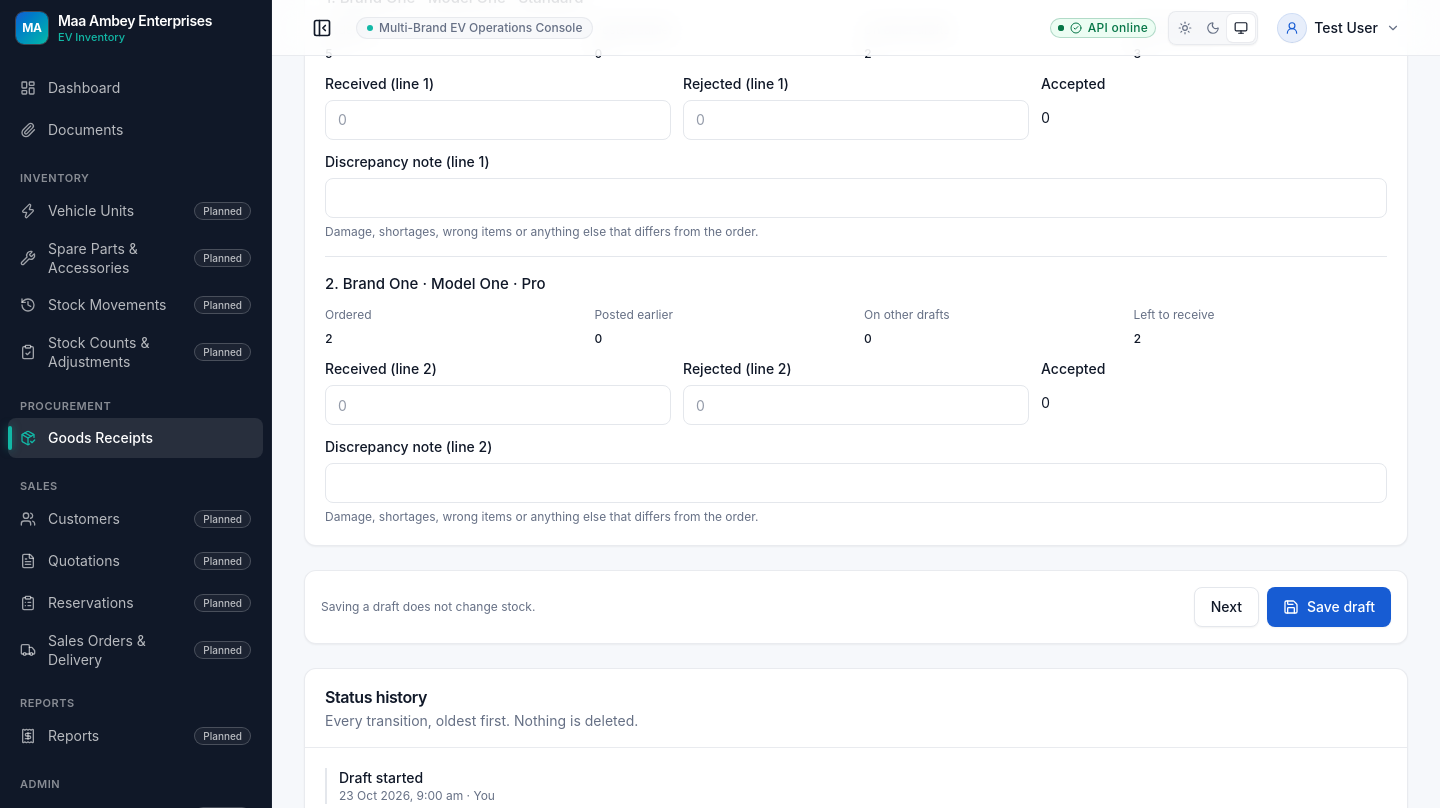
Test: goods receipt draft editor › offers a reload after a version conflict and explains network failures
This screenshot has width=1440, height=808.
(page scrolled)
Step 1. Type "1" into the field labelled "Received (line 2)" → (498, 405), box [325, 385, 671, 425]
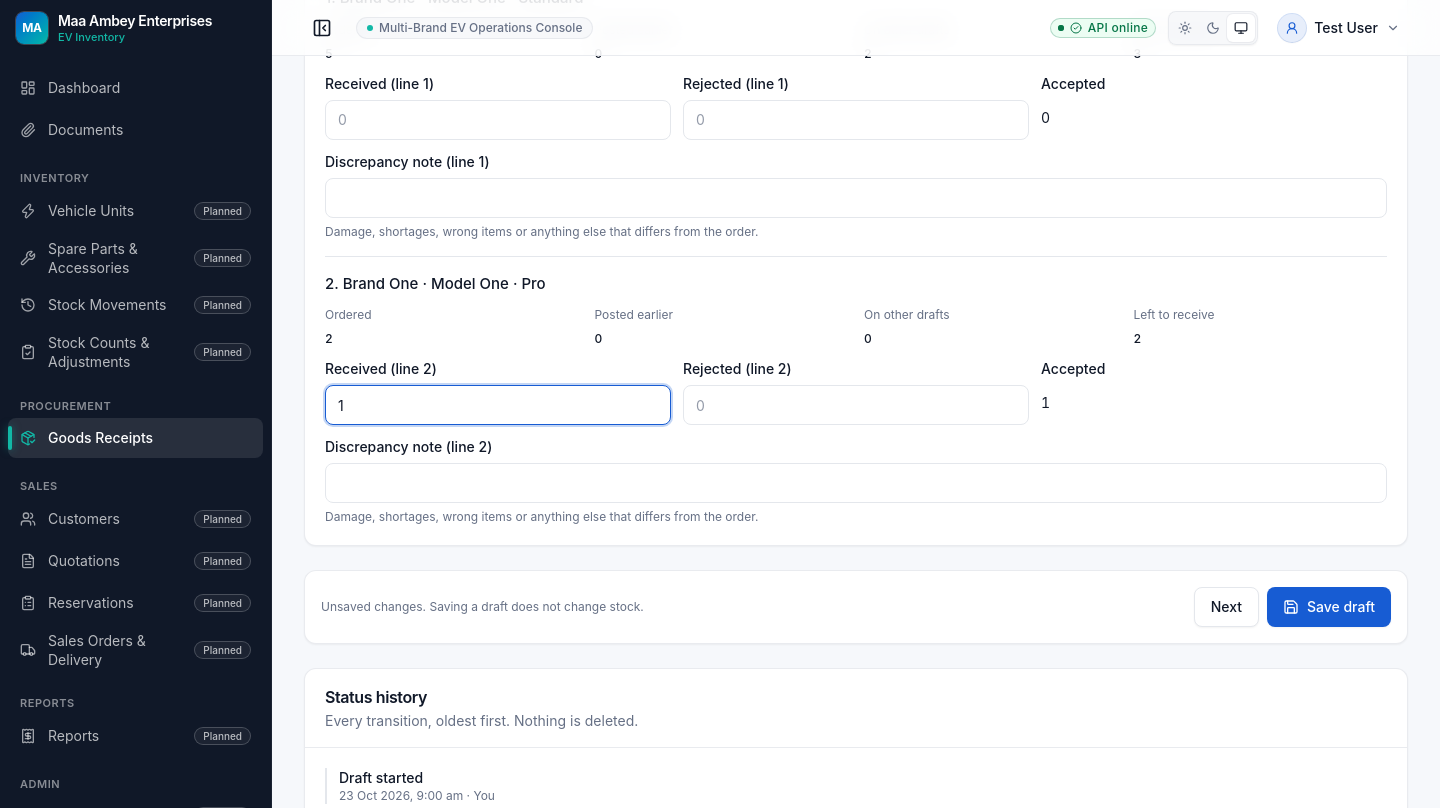
Step 2. Click the button "Save draft" → (1329, 607), box [1267, 587, 1391, 627]
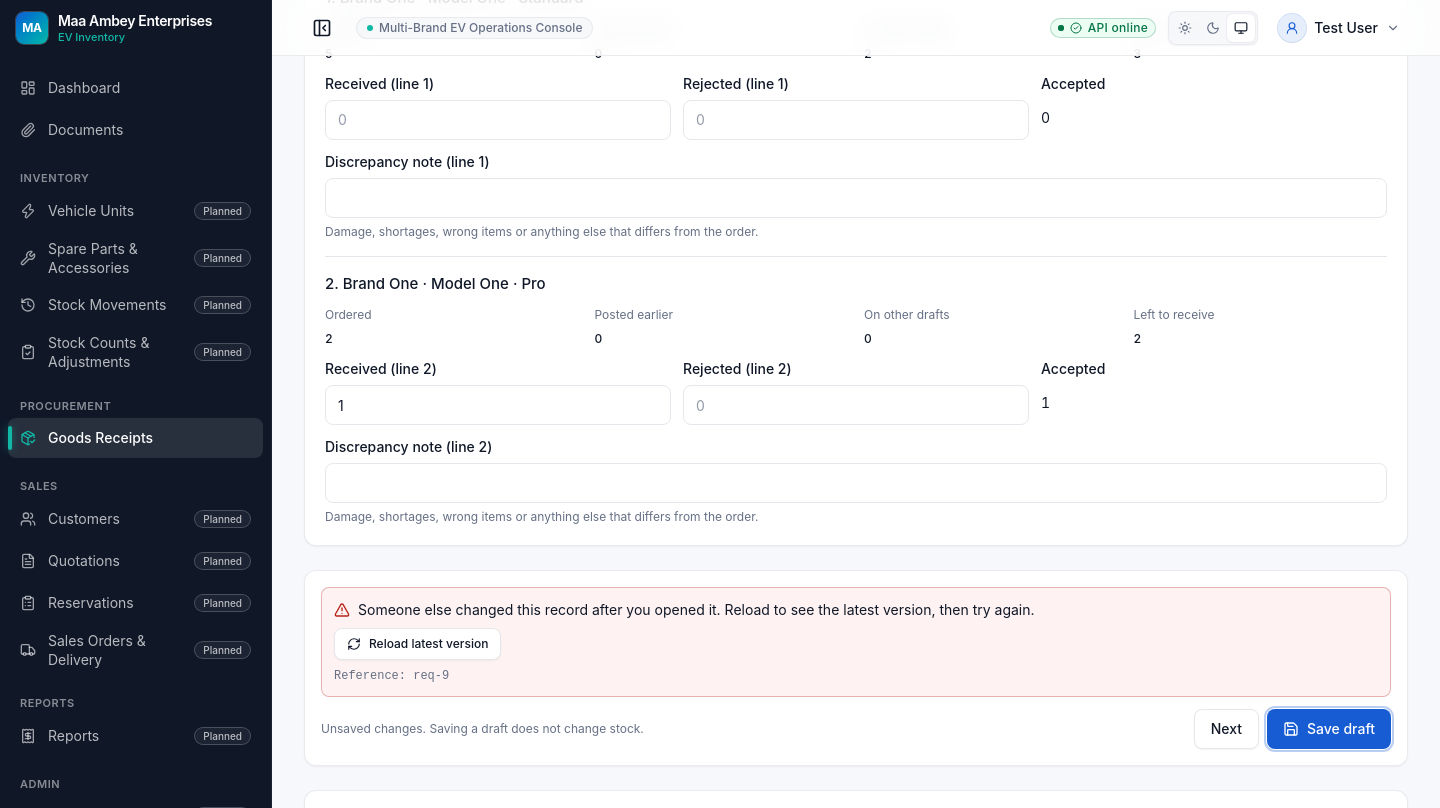
Now the button "Reload latest version" is shown, box [334, 628, 501, 660]
Step 3. Click the button "Save draft" → (1329, 729), box [1267, 709, 1391, 749]
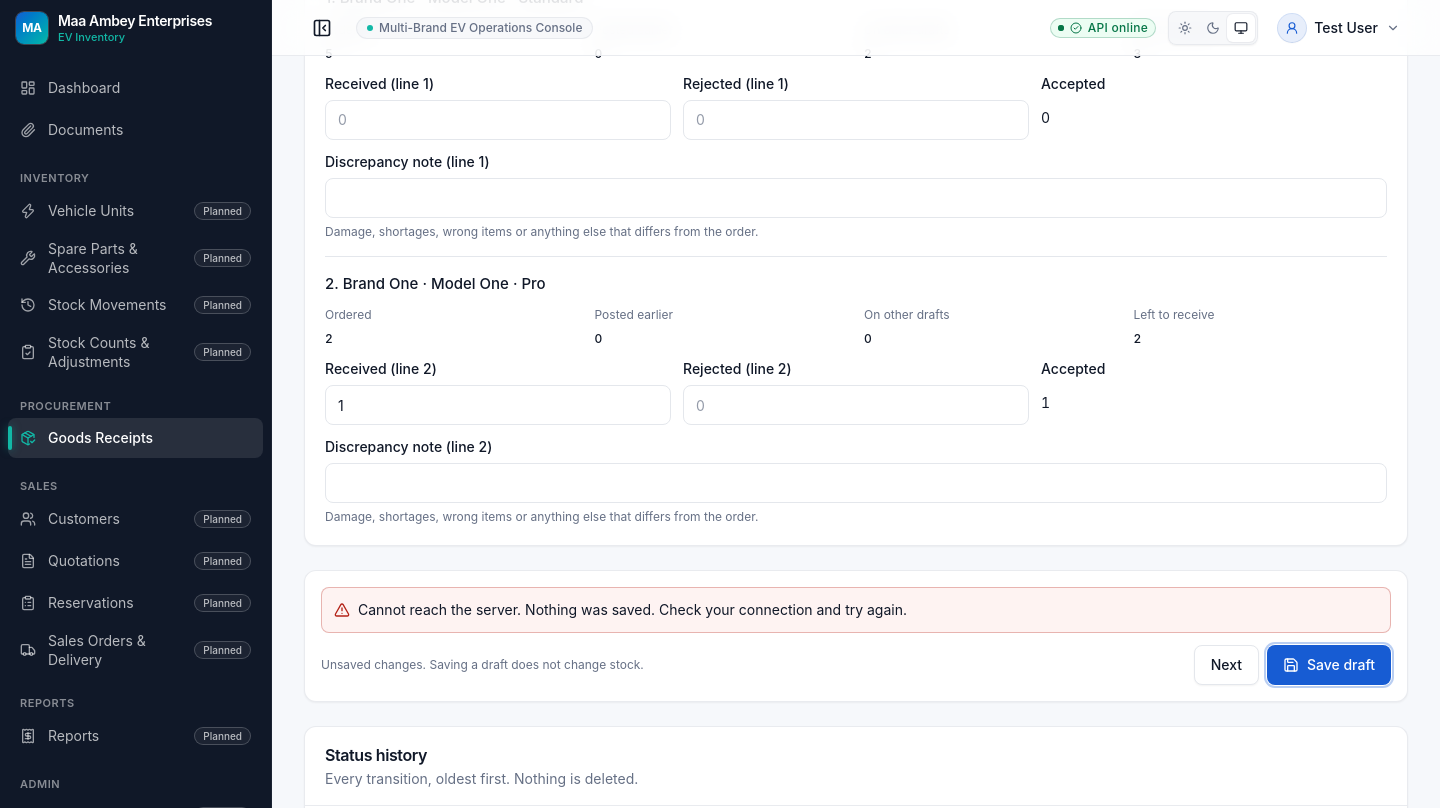
Now the text "Cannot reach the server. Nothing was saved" is shown, box [358, 601, 907, 618]
